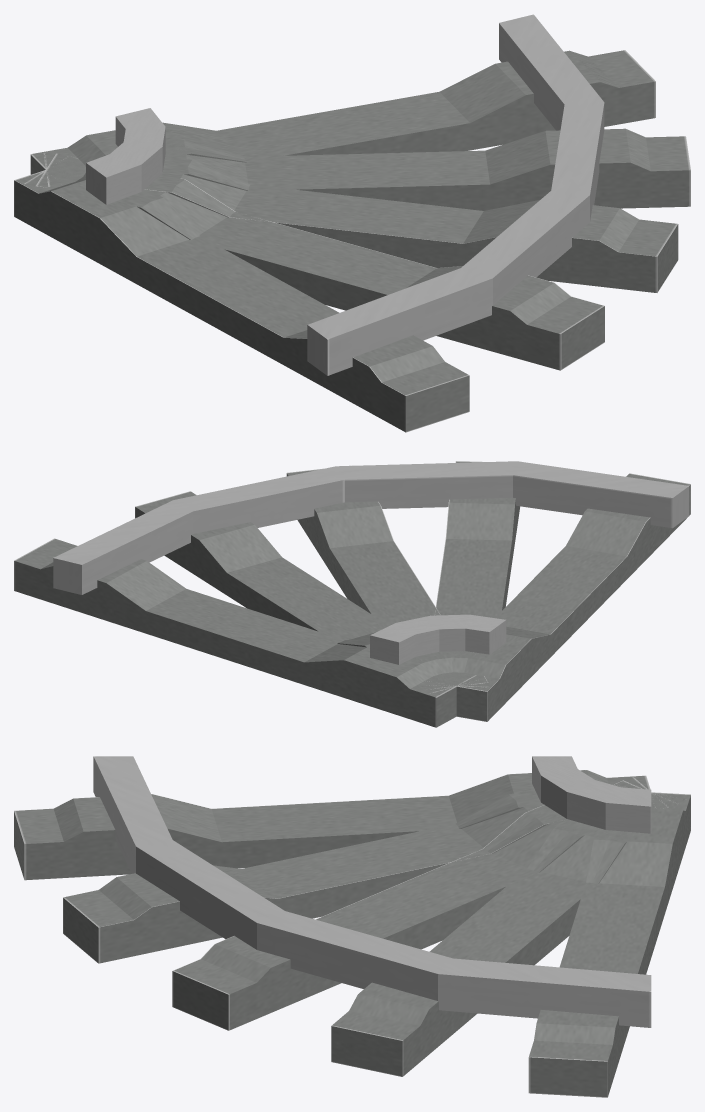
The model's file is rail_turned.obj.
3 renders of one model, top to bottom at view 1: azimuth 30°, elevation 25°; view 2: azimuth 150°, elevation 25°; view 3: azimuth 270°, elevation 25°, orthographic. The views are drawn at different scales.
Visible parts, largest first — view 1: b1, r1, b5, b4, b3, b2, r2; view 2: r1, b5, b1, b4, b3, b2, r2; view 3: r1, b1, b2, b3, b5, b4, r2.
Boxes of the visible parts, box(x1,y1,x2,y2) form: b1: box(14, 170, 469, 432); r1: box(307, 14, 604, 375); b5: box(30, 50, 655, 182); b4: box(43, 128, 690, 210); b3: box(36, 153, 678, 292); b2: box(24, 156, 604, 370); r2: box(86, 108, 165, 204); r1: box(53, 461, 689, 594); b5: box(14, 538, 476, 727); b1: box(427, 473, 690, 721); b4: box(135, 491, 478, 693); b3: box(286, 465, 488, 689); b2: box(425, 461, 520, 687); r2: box(370, 614, 506, 664); r1: box(93, 756, 651, 1027); b1: box(14, 770, 655, 880); b2: box(63, 777, 668, 963); b3: box(172, 780, 677, 1030); b5: box(528, 792, 690, 1097); b4: box(331, 785, 684, 1076); r2: box(532, 756, 651, 833).
Bounding box in the file's own units: 1.06 × 0.125 × 1.06.
